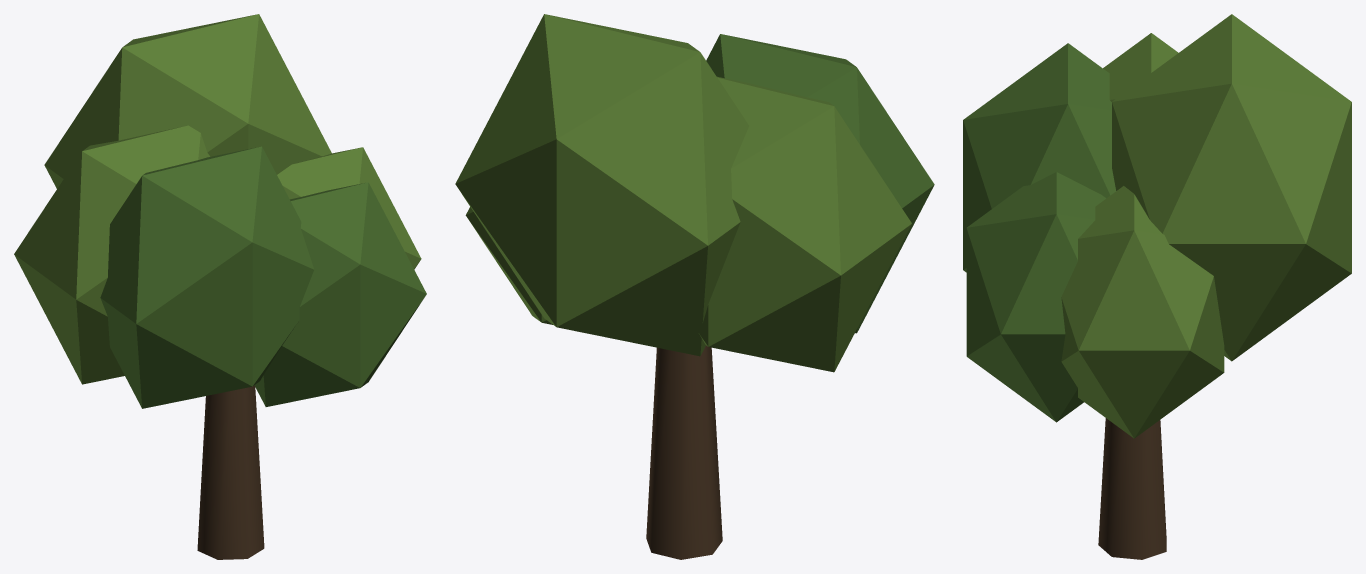
3 renders of one model, left to right at view 1: azimuth 30°, elevation 25°; view 2: azimuth 150°, elevation 25°; view 3: azimuth 270°, elevation 25°, orthographic. The views are drawn at different scales.
Visible parts, largest first — view 1: alpine-body; view 2: alpine-body; view 3: alpine-body.
Boxes of the visible parts, x1,y1,x2,y2 form: alpine-body: (14, 14, 426, 559); alpine-body: (455, 14, 934, 559); alpine-body: (963, 14, 1351, 559).
Size of the model in its own units: 6.29 by 8.45 by 5.95.
